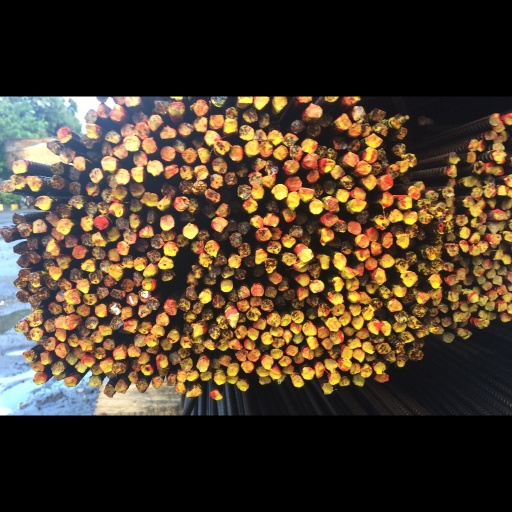dipstick: (56, 195, 75, 223), (84, 43, 103, 69), (109, 10, 125, 40), (399, 280, 418, 305), (300, 90, 318, 116), (134, 40, 150, 69), (26, 125, 43, 152), (63, 308, 81, 333), (332, 249, 347, 279), (272, 0, 288, 28), (108, 268, 124, 295), (114, 115, 130, 142), (147, 101, 163, 128), (318, 211, 334, 238), (321, 186, 339, 210), (123, 62, 140, 87), (183, 201, 198, 229), (228, 76, 243, 104), (324, 160, 340, 186), (35, 159, 53, 182), (56, 171, 73, 195), (100, 95, 117, 119), (140, 152, 157, 176), (271, 140, 288, 164), (91, 216, 107, 241), (242, 162, 258, 187), (267, 53, 283, 78), (105, 53, 122, 76), (27, 346, 44, 369), (233, 106, 250, 129), (305, 11, 322, 34), (54, 394, 69, 420), (157, 158, 172, 184), (173, 159, 188, 185), (130, 111, 145, 137), (147, 29, 162, 55), (244, 69, 259, 95), (49, 125, 65, 149), (141, 66, 157, 90), (181, 81, 197, 105), (212, 97, 228, 121), (213, 69, 229, 93), (343, 88, 359, 112), (361, 125, 377, 149), (361, 82, 377, 106), (392, 28, 408, 52), (373, 191, 389, 215), (405, 203, 421, 227), (163, 324, 177, 351), (287, 152, 300, 181), (57, 49, 72, 74), (88, 114, 103, 139), (79, 190, 94, 215), (193, 5, 208, 30), (239, 45, 254, 70), (329, 373, 344, 398), (336, 28, 351, 53), (58, 82, 75, 104), (68, 158, 85, 180), (10, 125, 26, 148), (94, 190, 110, 213), (56, 253, 72, 276), (112, 77, 128, 100), (72, 94, 86, 120), (160, 189, 174, 215), (49, 272, 64, 296), (122, 213, 137, 237), (163, 232, 178, 256), (160, 79, 175, 103), (302, 361, 317, 385), (308, 164, 323, 188), (288, 77, 303, 101), (290, 36, 305, 60), (330, 109, 345, 133), (161, 138, 178, 159), (131, 22, 147, 44), (11, 101, 27, 123), (132, 87, 148, 109), (159, 46, 175, 68), (211, 194, 227, 216), (249, 97, 265, 119), (283, 103, 299, 125), (285, 128, 301, 150), (366, 60, 382, 82), (253, 243, 267, 268), (264, 259, 278, 284), (379, 125, 393, 150), (120, 42, 135, 65), (88, 277, 103, 300), (109, 170, 124, 193), (178, 133, 193, 156), (204, 229, 219, 252), (243, 17, 258, 40), (283, 56, 298, 79), (356, 102, 371, 125), (347, 200, 362, 223), (380, 251, 395, 274), (340, 273, 358, 292), (252, 0, 269, 20), (349, 164, 366, 184), (85, 136, 99, 160), (128, 138, 144, 159), (188, 162, 202, 186), (179, 110, 193, 134), (255, 210, 271, 231), (193, 32, 207, 56), (209, 28, 223, 52), (258, 73, 272, 97), (274, 78, 288, 102), (359, 427, 373, 451), (379, 153, 393, 177), (426, 238, 440, 262), (29, 369, 44, 391), (158, 257, 173, 279), (205, 148, 220, 170), (309, 293, 324, 315), (299, 146, 314, 168), (302, 68, 317, 90), (402, 183, 417, 205), (116, 231, 129, 256), (379, 360, 392, 385), (46, 69, 60, 92), (17, 203, 31, 226), (198, 310, 212, 333), (150, 220, 164, 243), (164, 108, 178, 131), (192, 134, 206, 157), (199, 249, 213, 272), (237, 141, 251, 164), (224, 35, 238, 58), (281, 220, 295, 243), (327, 354, 341, 377), (352, 403, 366, 426), (320, 99, 334, 122), (364, 210, 378, 233), (398, 158, 412, 181), (79, 61, 95, 81), (28, 284, 44, 304), (56, 291, 72, 311), (168, 8, 184, 28), (354, 244, 370, 264), (51, 425, 66, 446), (81, 261, 96, 282), (172, 69, 187, 90), (289, 205, 304, 226), (299, 243, 314, 264), (306, 43, 321, 64), (415, 312, 430, 333), (76, 292, 89, 316), (85, 170, 98, 194), (124, 356, 137, 380), (198, 81, 210, 107), (308, 268, 321, 292), (331, 288, 344, 312), (83, 20, 97, 42), (96, 11, 110, 33), (33, 196, 47, 218), (12, 233, 26, 255), (63, 221, 77, 243), (156, 346, 170, 368), (143, 267, 157, 289), (267, 231, 281, 253), (205, 55, 219, 77), (262, 125, 276, 147), (282, 178, 296, 200), (345, 289, 359, 311), (309, 140, 323, 162), (340, 126, 354, 148), (347, 42, 361, 64), (373, 42, 387, 64), (403, 91, 417, 113), (355, 221, 369, 243), (395, 221, 409, 243), (418, 182, 432, 204), (428, 285, 442, 307), (181, 182, 197, 201), (386, 327, 402, 346), (28, 316, 43, 336), (146, 246, 161, 266), (160, 276, 175, 296), (257, 24, 269, 49), (294, 284, 309, 304), (317, 252, 329, 277), (371, 19, 386, 39), (374, 277, 386, 302), (393, 101, 408, 121), (70, 275, 83, 298), (81, 218, 94, 241), (97, 167, 110, 190), (194, 109, 207, 132), (210, 124, 223, 147), (216, 170, 229, 193), (251, 141, 264, 164), (266, 102, 279, 125), (317, 330, 330, 353), (367, 359, 380, 382), (356, 181, 369, 204), (50, 104, 64, 125), (27, 247, 41, 268), (36, 304, 50, 325), (81, 414, 95, 435), (84, 352, 98, 373), (72, 239, 86, 260), (103, 285, 117, 306), (108, 329, 122, 350), (112, 402, 126, 423), (142, 290, 156, 311), (138, 333, 152, 354), (150, 364, 164, 385), (139, 206, 153, 227), (282, 250, 296, 271), (392, 301, 406, 322), (344, 386, 361, 403), (124, 0, 142, 16), (134, 256, 146, 280), (405, 248, 417, 272), (100, 261, 113, 283), (107, 210, 120, 232), (177, 323, 190, 345), (155, 414, 168, 436), (106, 125, 119, 147), (114, 142, 127, 164), (155, 5, 168, 27), (234, 366, 247, 388), (336, 148, 349, 170), (352, 16, 365, 38), (385, 108, 398, 130), (389, 181, 402, 203), (91, 241, 106, 260), (246, 340, 261, 359), (328, 313, 343, 332), (15, 309, 29, 329), (48, 329, 62, 349), (72, 402, 86, 422), (76, 333, 90, 353), (77, 365, 91, 385), (144, 381, 158, 401), (137, 310, 151, 330), (128, 163, 142, 183), (195, 421, 209, 441), (266, 348, 280, 368), (268, 280, 282, 300), (264, 187, 278, 207), (248, 121, 262, 141), (351, 146, 365, 166), (407, 352, 421, 372), (445, 236, 459, 256), (135, 226, 147, 249), (167, 372, 179, 395), (238, 235, 250, 258), (365, 257, 377, 280), (408, 142, 420, 165), (129, 187, 140, 212), (381, 218, 392, 243), (54, 372, 67, 393), (100, 422, 113, 443), (93, 401, 106, 422), (107, 243, 120, 264), (185, 436, 198, 457), (100, 73, 113, 94), (302, 402, 315, 423), (228, 253, 241, 274), (237, 201, 250, 222), (352, 444, 365, 465), (343, 365, 356, 386), (361, 337, 374, 358), (307, 117, 320, 138), (394, 48, 407, 69), (392, 74, 405, 95), (305, 199, 318, 220), (395, 260, 408, 281), (470, 145, 483, 166), (160, 214, 175, 232), (178, 42, 193, 60), (40, 222, 54, 241), (13, 288, 27, 307), (22, 407, 36, 426), (115, 194, 129, 213), (127, 400, 141, 419), (183, 343, 197, 362), (416, 367, 430, 386), (445, 285, 459, 304), (67, 379, 79, 401), (96, 304, 108, 326), (122, 254, 134, 276), (121, 292, 133, 314), (134, 379, 146, 401), (126, 315, 138, 337), (101, 147, 113, 169), (209, 368, 221, 390), (238, 303, 250, 325), (222, 270, 234, 292), (229, 219, 241, 241), (39, 410, 52, 430), (33, 442, 46, 462), (180, 418, 193, 438), (145, 183, 158, 203), (191, 271, 204, 291), (186, 284, 199, 304), (220, 293, 233, 313), (216, 352, 229, 372), (234, 406, 247, 426), (216, 388, 229, 408), (260, 325, 273, 345), (285, 398, 298, 418), (291, 343, 304, 363), (224, 121, 237, 141), (362, 392, 375, 412), (16, 256, 31, 273), (110, 308, 125, 325), (374, 442, 389, 459), (399, 377, 414, 394), (473, 101, 484, 124), (43, 356, 55, 377), (54, 350, 66, 371), (65, 409, 77, 430), (88, 448, 102, 466), (103, 462, 115, 483), (95, 333, 107, 354), (138, 409, 150, 430), (147, 322, 159, 343), (169, 409, 181, 430), (191, 395, 205, 413), (252, 299, 264, 320), (247, 369, 259, 390), (261, 377, 273, 398), (306, 384, 318, 405), (294, 262, 308, 280), (341, 401, 353, 422), (331, 333, 345, 351), (351, 352, 363, 373), (409, 406, 423, 424), (370, 234, 382, 255), (413, 335, 427, 353), (469, 172, 481, 193), (494, 180, 508, 198), (132, 280, 142, 305), (12, 186, 25, 205), (62, 329, 75, 348), (99, 366, 112, 385), (109, 353, 122, 372), (112, 426, 125, 445), (213, 444, 226, 463), (185, 306, 198, 325), (176, 221, 189, 240), (191, 232, 204, 251), (203, 282, 216, 301), (236, 454, 249, 473), (203, 387, 216, 406), (218, 415, 231, 434), (241, 424, 254, 443), (247, 406, 260, 425), (279, 415, 292, 434), (338, 421, 351, 440), (250, 190, 263, 209), (225, 17, 238, 36), (348, 333, 361, 352), (426, 361, 439, 380), (455, 188, 468, 207), (487, 200, 500, 219), (339, 345, 350, 367), (361, 42, 372, 64), (137, 452, 147, 476), (151, 448, 163, 468), (186, 467, 201, 483), (201, 340, 213, 360), (204, 174, 216, 194), (290, 361, 302, 381), (302, 434, 314, 454), (265, 303, 277, 323), (253, 268, 265, 288), (296, 306, 308, 326), (379, 394, 391, 414), (335, 198, 347, 218), (467, 311, 479, 331), (470, 191, 482, 211), (14, 360, 28, 377), (30, 424, 44, 441), (228, 389, 242, 406), (252, 356, 266, 373), (269, 369, 283, 386), (347, 312, 361, 329), (392, 360, 406, 377), (90, 428, 103, 446), (114, 458, 127, 476), (83, 316, 96, 334), (141, 429, 154, 447), (209, 469, 222, 487), (208, 270, 221, 288), (261, 419, 274, 437), (214, 252, 227, 270), (373, 426, 386, 444), (365, 298, 378, 316), (489, 219, 502, 237), (441, 144, 454, 162), (462, 159, 475, 177), (128, 440, 139, 461), (68, 137, 80, 156), (18, 276, 30, 295), (43, 388, 55, 407), (75, 425, 87, 444), (121, 337, 133, 356), (138, 361, 150, 380), (174, 457, 186, 476), (179, 383, 191, 402), (191, 58, 203, 77), (213, 320, 225, 339), (237, 325, 249, 344), (64, 449, 77, 466), (178, 401, 191, 418), (226, 430, 239, 447), (459, 373, 472, 390), (468, 239, 481, 256), (131, 421, 142, 441), (283, 373, 293, 395), (314, 431, 325, 451), (256, 50, 266, 72), (341, 233, 352, 253), (477, 231, 488, 251), (484, 142, 495, 162), (26, 226, 38, 244), (42, 261, 54, 279), (91, 376, 103, 394), (160, 388, 172, 406), (198, 214, 210, 232), (275, 323, 287, 341), (292, 324, 304, 342), (317, 368, 329, 386), (349, 426, 361, 444), (497, 141, 509, 159), (280, 347, 290, 368), (278, 291, 288, 312), (271, 210, 281, 231), (209, 418, 220, 437), (306, 338, 317, 357), (322, 387, 333, 406), (455, 274, 466, 293), (459, 209, 470, 228), (449, 89, 460, 108), (442, 379, 455, 395), (485, 311, 498, 327), (484, 53, 497, 69), (221, 373, 233, 390), (270, 405, 282, 422), (273, 386, 285, 403), (328, 444, 340, 461), (283, 309, 295, 326), (356, 371, 368, 388), (493, 86, 505, 103), (55, 309, 65, 329), (193, 328, 203, 348), (314, 398, 324, 418), (103, 388, 114, 406), (226, 197, 237, 215), (235, 276, 246, 294), (469, 218, 480, 236), (489, 27, 500, 45), (493, 38, 504, 56), (146, 398, 159, 413), (498, 346, 511, 361), (200, 441, 212, 457), (256, 432, 268, 448), (447, 312, 459, 328), (483, 328, 495, 344), (484, 276, 496, 292), (293, 378, 303, 397), (339, 446, 349, 465), (463, 284, 473, 303), (458, 231, 468, 250), (446, 110, 456, 129), (468, 68, 478, 87), (182, 364, 193, 381), (244, 255, 255, 272), (496, 328, 507, 345), (176, 438, 186, 456), (294, 410, 304, 428), (494, 244, 504, 262), (227, 446, 238, 462), (244, 390, 255, 406), (437, 332, 448, 348), (473, 272, 484, 288), (501, 253, 512, 269), (477, 162, 486, 181), (482, 294, 492, 311), (497, 271, 507, 288), (395, 417, 405, 434), (364, 411, 377, 424), (492, 73, 505, 86), (54, 441, 66, 455), (269, 437, 281, 451), (282, 430, 294, 444), (495, 302, 507, 316), (250, 321, 261, 336), (322, 461, 333, 476), (482, 262, 493, 277), (167, 445, 175, 465), (442, 353, 452, 369), (492, 287, 502, 303), (259, 447, 270, 461), (293, 451, 304, 465), (479, 357, 489, 372), (502, 314, 512, 329), (467, 89, 476, 105), (158, 435, 169, 448), (486, 344, 496, 358), (472, 256, 482, 270), (237, 345, 245, 361), (460, 330, 469, 344), (477, 287, 486, 301), (478, 341, 486, 356), (469, 333, 478, 346)
